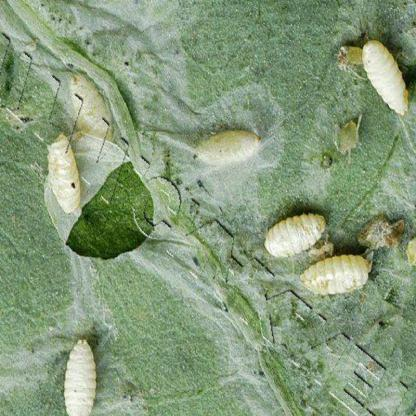whorl-maggot: (297, 246, 384, 300), (358, 38, 413, 120), (58, 332, 104, 416), (191, 121, 267, 169), (262, 210, 332, 256), (48, 134, 81, 213)
